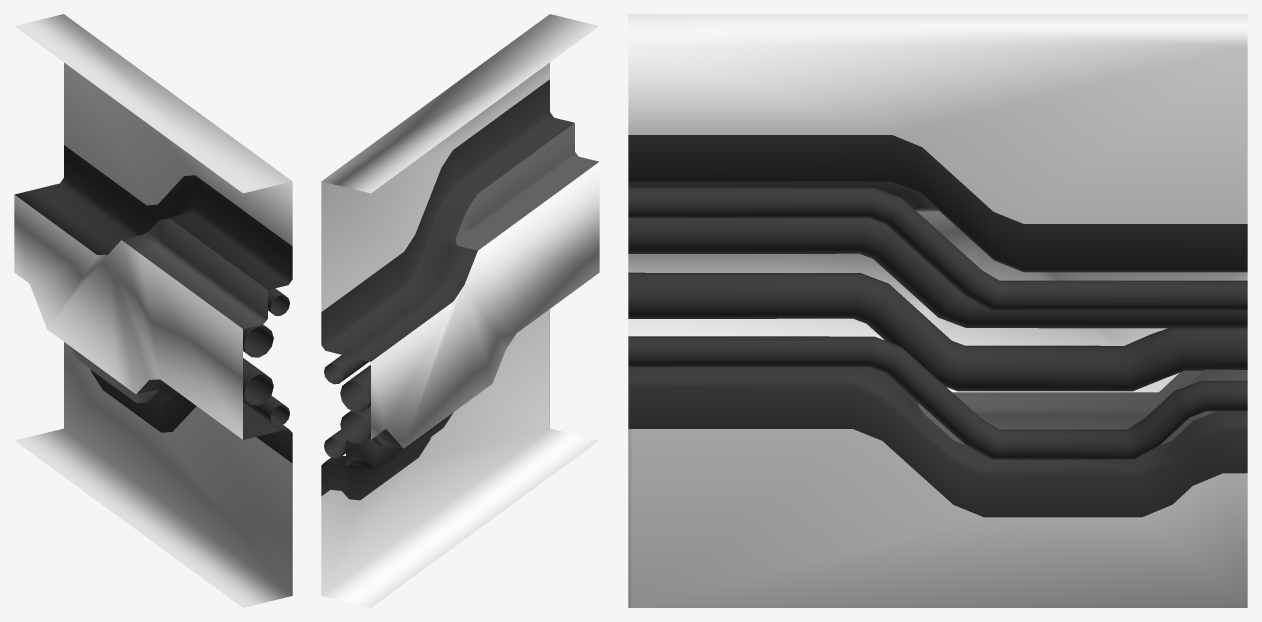
File: Testing.fbx
The picture shows the model from 3 angles, left to right: view 1: azimuth 30°, elevation 25°; view 2: azimuth 150°, elevation 25°; view 3: azimuth 270°, elevation 25°; orthographic projection. The views are drawn at different scales.
Parts seen in each view (by area): view 1: Wall; view 2: Wall; view 3: Wall.
Boxes of the visible parts, x1,y1,x2,y2 form: Wall: (14,14,292,607); Wall: (321,14,599,607); Wall: (628,14,1247,607).
Size of the model in its own units: 25 by 200 by 200.
